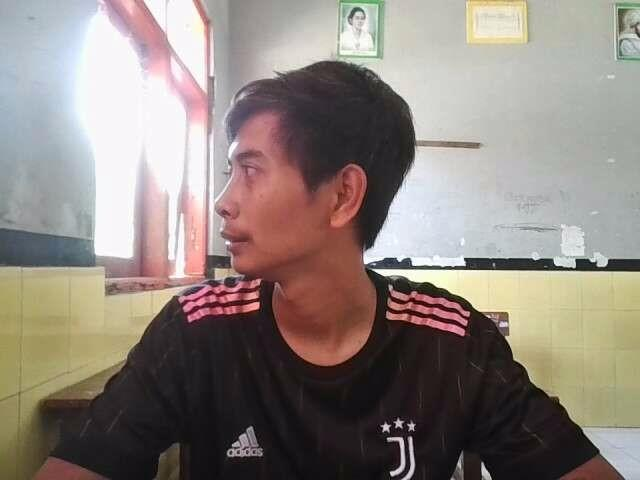cheating: (48, 44, 614, 478)
